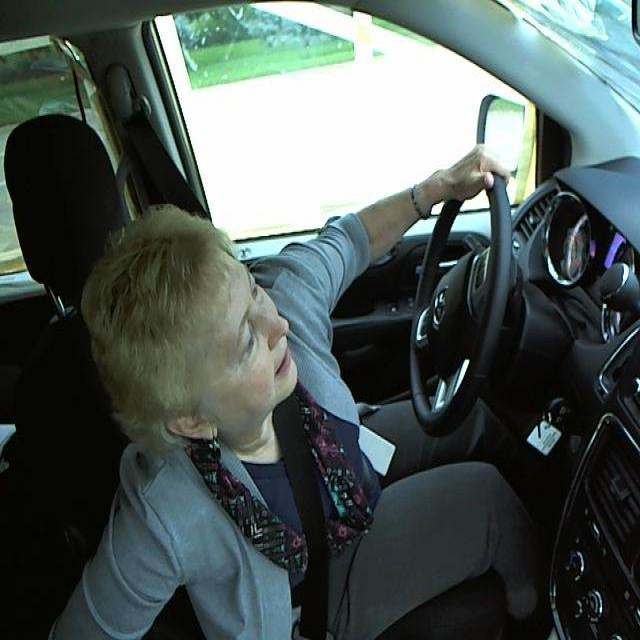seatbelt: (277, 413, 338, 639)
